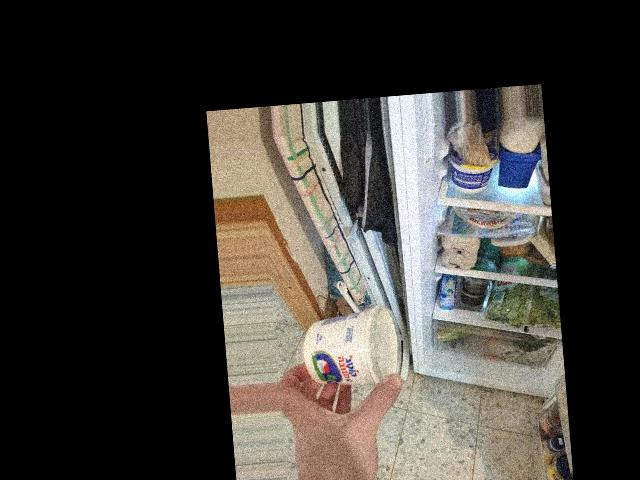cotage: (308, 312, 397, 395)
